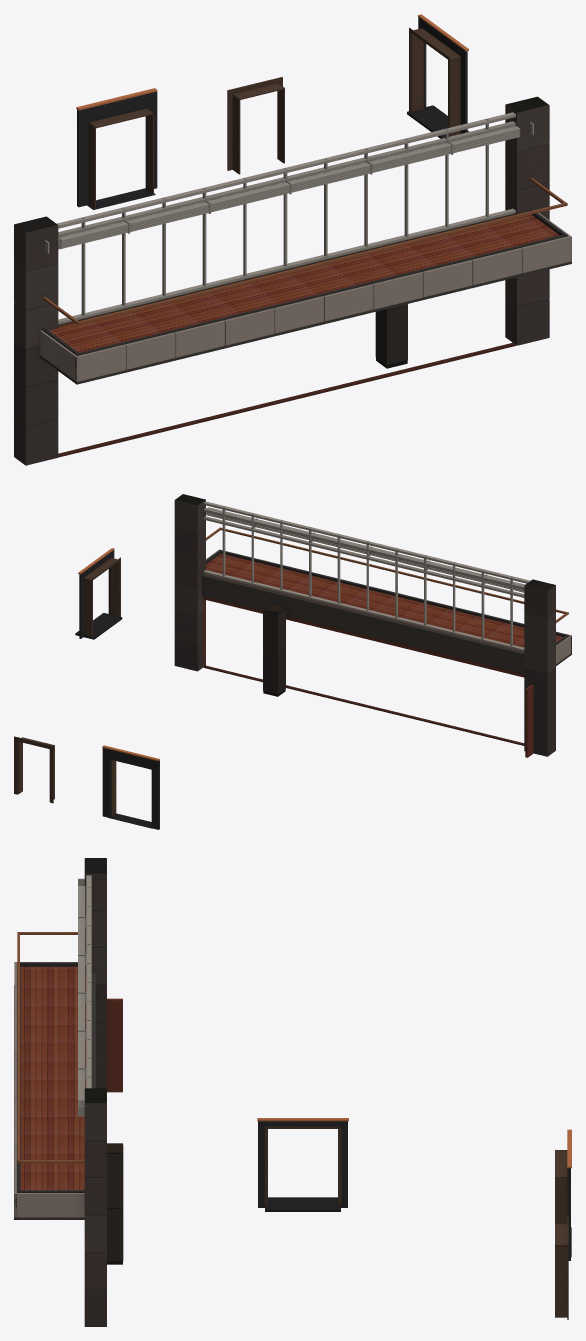
File: suite_facade.glb
3 renders of one model, top to bottom at view 1: azimuth 30°, elevation 25°; view 2: azimuth 150°, elevation 25°; view 3: azimuth 270°, elevation 25°, orthographic. The views are drawn at different scales.
Visible parts, largest first — view 1: suite_facade; view 2: suite_facade; view 3: suite_facade.
Part boxes in pixels (box(x1,y1,x2,y2)): suite_facade: box(14, 14, 571, 465); suite_facade: box(14, 494, 571, 829); suite_facade: box(14, 858, 571, 1326).
Bounding box in the file's own units: 16.53 × 6.82 × 15.38.
Materials: 1 (1 with a texture image).
